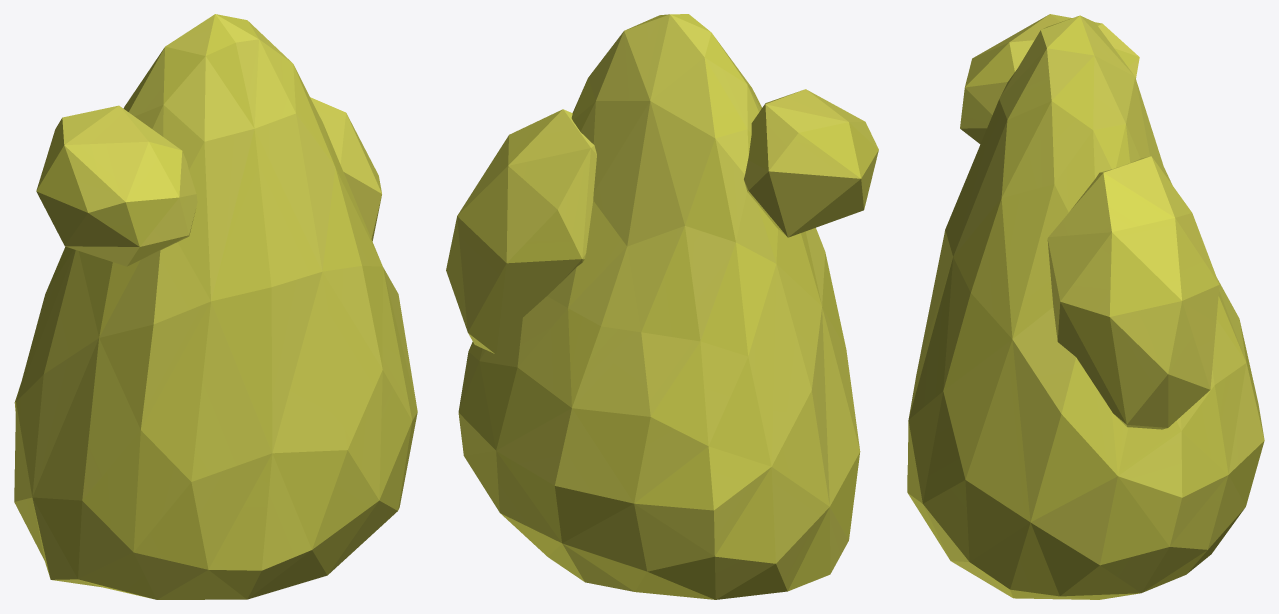
Rendered from bush1.fbx.
3 renders of one model, left to right at view 1: azimuth 30°, elevation 25°; view 2: azimuth 150°, elevation 25°; view 3: azimuth 270°, elevation 25°, orthographic.
Parts seen in each view (by area): view 1: Roundcube.001; view 2: Roundcube.001; view 3: Roundcube.001.
Boxes of the visible parts, x1,y1,x2,y2 form: Roundcube.001: [14, 14, 417, 599]; Roundcube.001: [446, 14, 878, 599]; Roundcube.001: [907, 14, 1264, 599].
Size of the model in its own units: 282 by 400 by 236.
